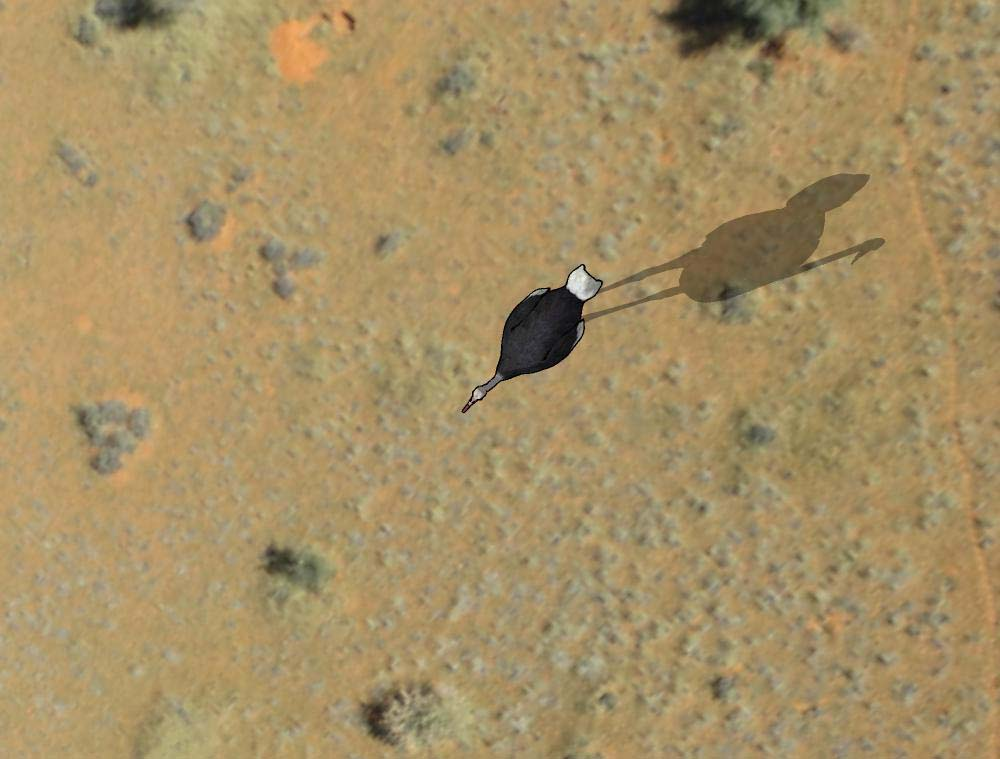ostrich: (452, 265, 616, 418)
